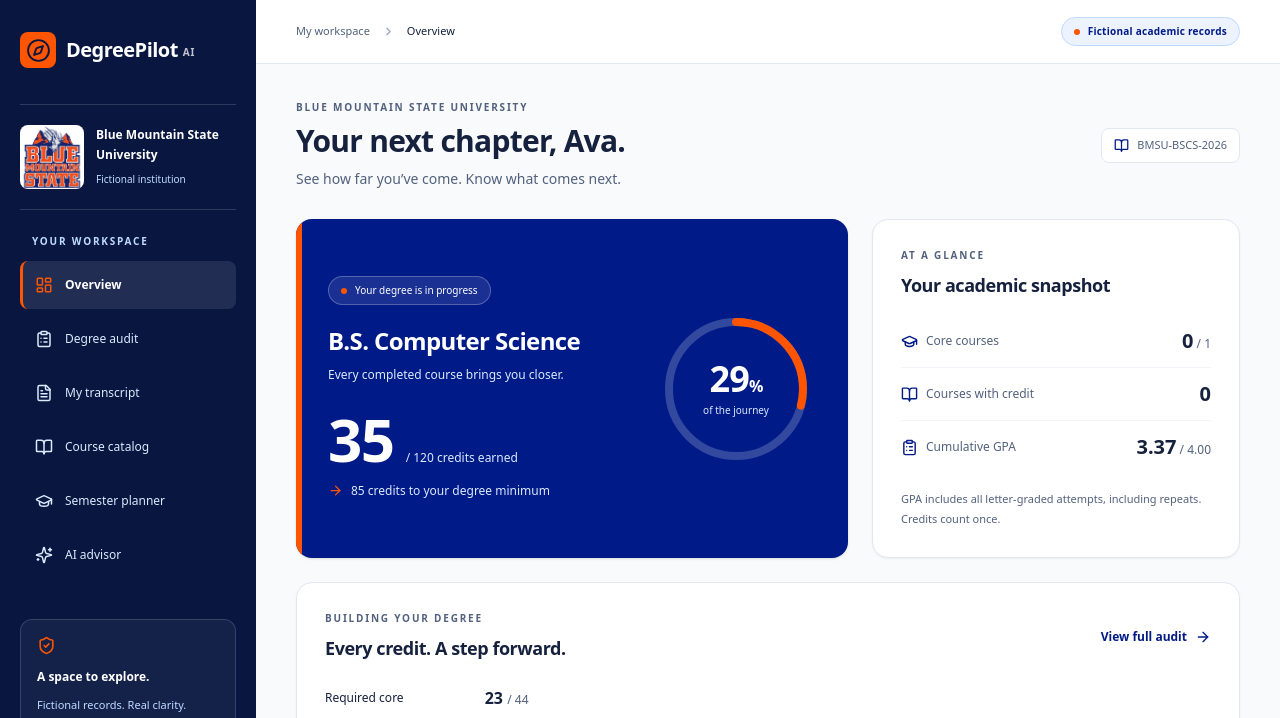
Test: empty transcript is explicit
The width and height of the screenshot is (1280, 718).
expect the text "35" is shown: met, box left=328, top=409, right=394, bottom=469
Click the link "My transcript": (87, 393) left=35, top=384, right=140, bottom=402
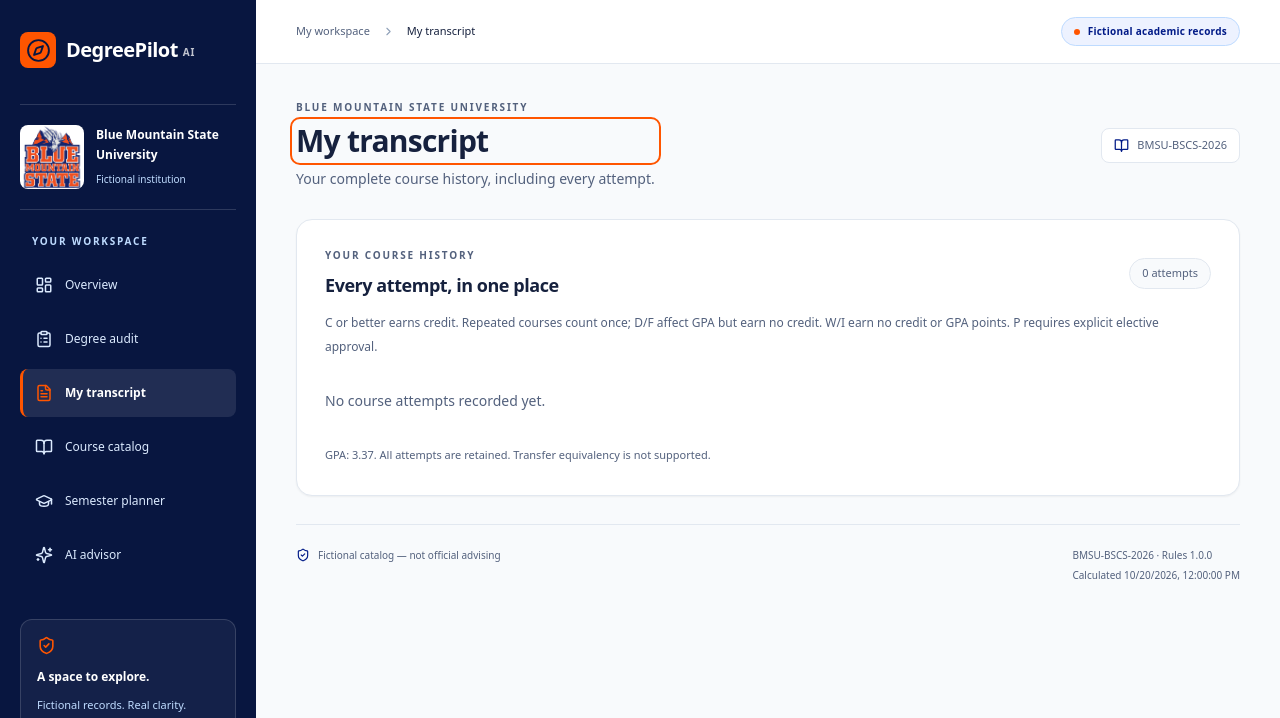
expect the text "No course attempts recorded yet." is shown: met, box left=325, top=391, right=545, bottom=410
